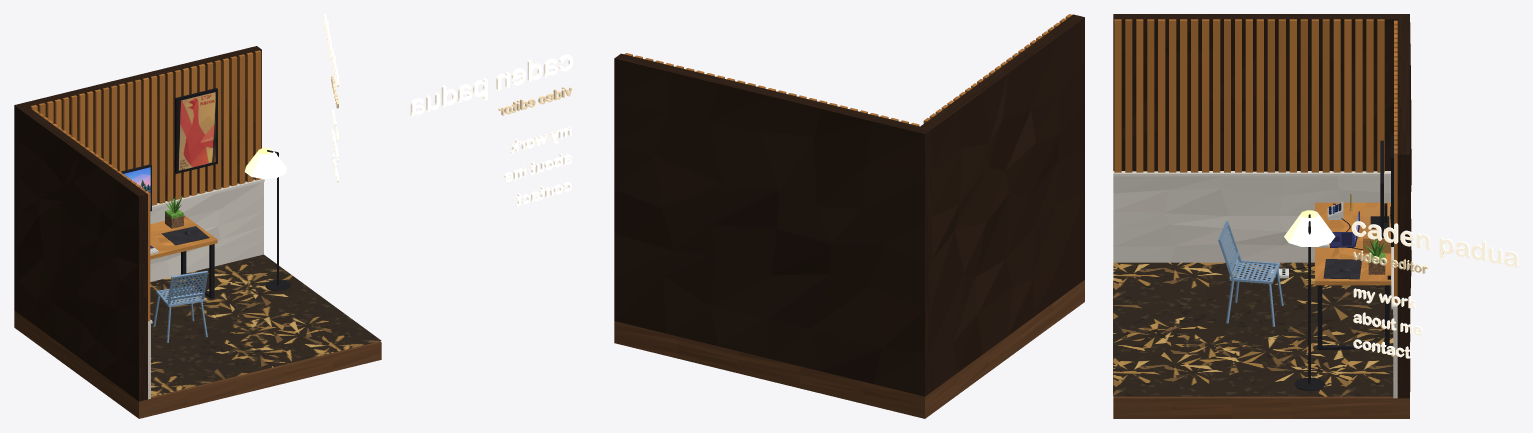
File: room.glb
3 views of the same model, side by side, from view 1: azimuth 30°, elevation 25°; view 2: azimuth 150°, elevation 25°; view 3: azimuth 270°, elevation 25° (orthographic). The views are drawn at different scales.
Parts seen in each view (by area): view 1: Wall_Left, Floor_Carpet, Wall_Slats_Back, Wall_Back, Floor_Slab, Wainscot_Back, Poster_Print, Desk_Top, Chair_Frame, Lamp_Shade, Poster_Frame, Wall_Slats_Left (+5 smaller); view 2: Wall_Back, Wall_Left, Floor_Slab, Menu_Name, Menu_About; view 3: Floor_Carpet, Wall_Slats_Left, Wall_Left, Wainscot_Left, Floor_Slab, Wall_Back, Desk_Top, Menu_Name, Wainscot_Cap_Left, Chair_Frame, Lamp_Shade, Wall_Slats_Back (+11 smaller).
Boxes of the visible parts, x1,y1,x2,y2 form: Wall_Left: [19, 107, 147, 401]; Floor_Carpet: [150, 254, 381, 396]; Wall_Slats_Back: [30, 50, 261, 205]; Wall_Back: [14, 46, 261, 313]; Floor_Slab: [14, 310, 381, 418]; Wainscot_Back: [150, 182, 263, 281]; Poster_Print: [178, 92, 215, 170]; Desk_Top: [150, 216, 217, 259]; Chair_Frame: [153, 271, 207, 342]; Lamp_Shade: [244, 148, 286, 179]; Poster_Frame: [175, 88, 217, 173]; Wall_Slats_Left: [34, 110, 150, 321]; Wall_Back: [614, 53, 931, 396]; Wall_Left: [920, 14, 1084, 391]; Floor_Slab: [614, 280, 1084, 418]; Menu_Name: [410, 54, 573, 116]; Menu_About: [504, 153, 571, 181]; Floor_Carpet: [1113, 262, 1393, 396]; Wall_Slats_Left: [1114, 19, 1384, 172]; Wall_Left: [1113, 14, 1397, 171]; Wainscot_Left: [1113, 176, 1390, 262]; Floor_Slab: [1113, 281, 1410, 418]; Wall_Back: [1397, 14, 1411, 398]; Desk_Top: [1315, 202, 1391, 285]; Menu_Name: [1351, 221, 1518, 267]; Wainscot_Cap_Left: [1113, 171, 1390, 176]; Chair_Frame: [1218, 221, 1283, 326]; Lamp_Shade: [1284, 210, 1335, 246]; Wall_Slats_Back: [1394, 20, 1397, 303].
Bounding box in the file's own units: 4.75 × 2.85 × 3.93.
Materials: 32 (6 with a texture image).
